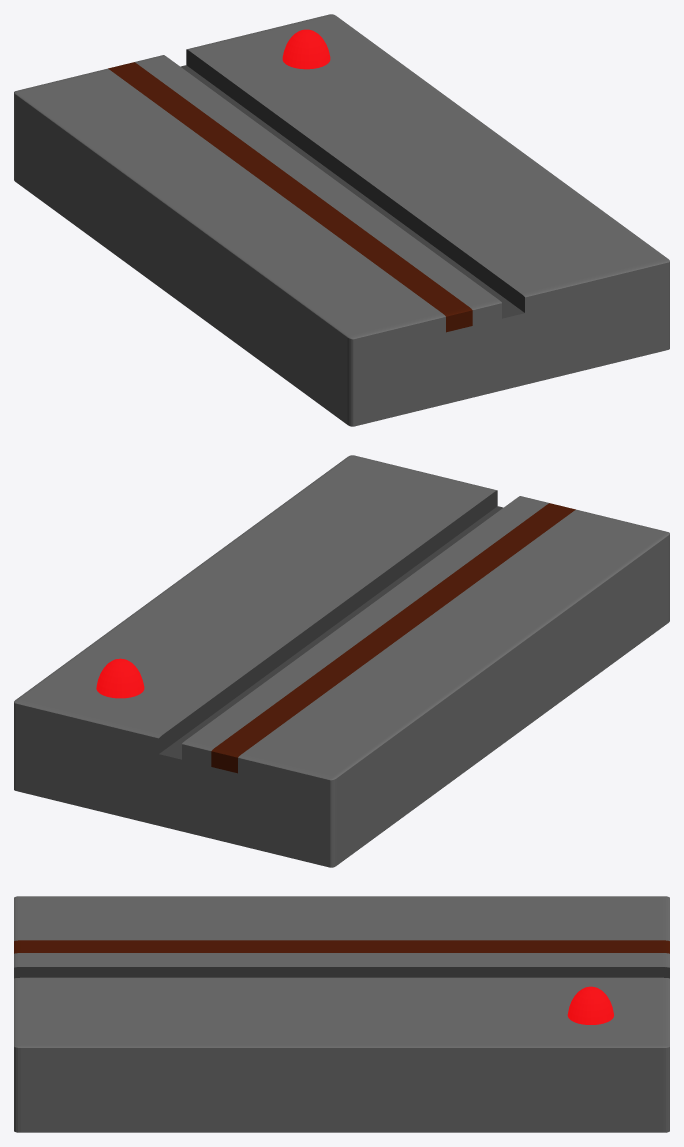
Rendered from BrownKeyCardScannerRL.glb.
3 views of the same model, one above another, from view 1: azimuth 30°, elevation 25°; view 2: azimuth 150°, elevation 25°; view 3: azimuth 270°, elevation 25° (orthographic). The views are drawn at different scales.
Parts seen in each view (by area): view 1: Base, Light; view 2: Base, Light; view 3: Base, Light.
Boxes of the visible parts, x1=… form: Base: x1=14, y1=14, x2=669, y2=426; Light: x1=282, y1=29, x2=330, y2=69; Base: x1=14, y1=455, x2=669, y2=867; Light: x1=96, y1=658, x2=144, y2=698; Base: x1=14, y1=896, x2=669, y2=1132; Light: x1=567, y1=986, x2=613, y2=1024.
Bounding box in the file's own units: 0.055 × 0.0192 × 0.1006.
